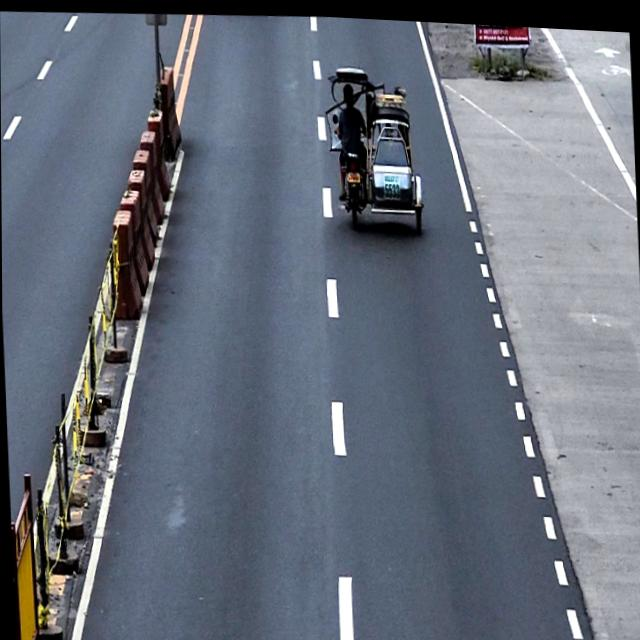License-Plate: (346, 167, 360, 181)
Tricycle: (322, 58, 425, 232)
